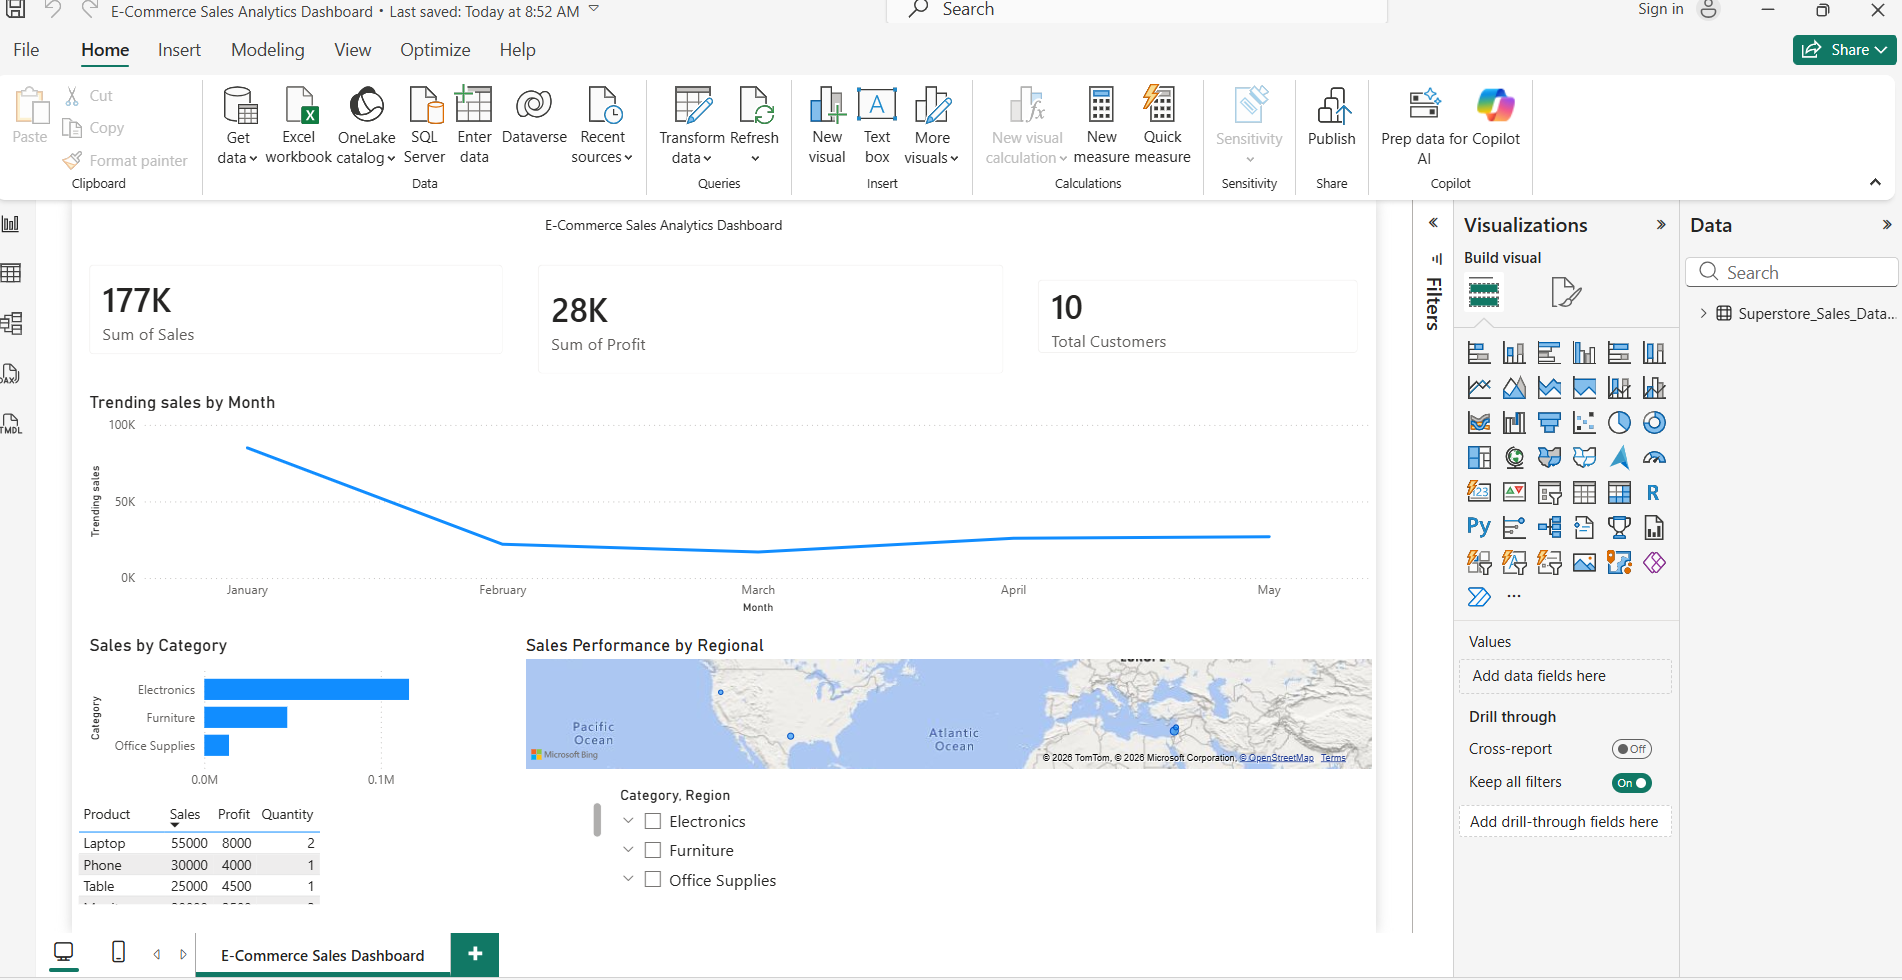

The page's visual inventory and layout, read from the dashboard file:
{"tool":"powerbi","page":{"name":"E-Commerce Sales Dashboard","canvas":[1280,720],"ordinal":0},"visuals":[{"type":"textbox","box":[10,10,1141.7,51.7],"z":0},{"type":"cardVisual","fields":{"Data":["Sum(Superstore_Sales_Dataset.Sales)"]},"box":[0,46.2,440.2,122.1],"z":1000},{"type":"cardVisual","fields":{"Data":["Sum(Superstore_Sales_Dataset.Profit)"]},"box":[440,46.7,491.7,141.7],"z":2000},{"type":"cardVisual","fields":{"Data":["Count(Superstore_Sales_Dataset.Customer)"]},"box":[931.7,61.7,348.3,106.7],"z":3000},{"type":"lineChart","fields":{"Y":["Sum(Superstore_Sales_Dataset.Sales)"],"Category":["Superstore_Sales_Dataset.Order Date.Variation.Date Hierarchy.Month"]},"box":[11.7,188.3,1268.3,223.3],"z":4000},{"type":"clusteredBarChart","fields":{"Category":["Superstore_Sales_Dataset.Category"],"Y":["Sum(Superstore_Sales_Dataset.Sales)"]},"box":[11.7,426.7,396.7,160],"z":5000},{"type":"map","fields":{"Category":["Superstore_Sales_Dataset.Region"],"Size":["Sum(Superstore_Sales_Dataset.Sales)"]},"box":[440,426.7,840,136.7],"z":6000},{"type":"tableEx","fields":{"Values":["Superstore_Sales_Dataset.Product","Superstore_Sales_Dataset.Sales","Superstore_Sales_Dataset.Profit","Superstore_Sales_Dataset.Quantity"]},"box":[0,586.3,525.2,109.9],"z":7000},{"type":"slicer","fields":{"Values":["Superstore_Sales_Dataset.Category","Superstore_Sales_Dataset.Region"]},"box":[525,570,755,150],"z":8001}]}

Visuals, with their boxes on the page's 1280x720 design canvas (x1, y1, x2, y2). These are canvas units, not pixel positions in the 1902x980 screenshot, which may show the page scaled, cropped or inside an application window:
textbox: 10, 10, 1152, 62
cardVisual - Sum(Superstore_Sales_Dataset.Sales): 0, 46, 440, 168
cardVisual - Sum(Superstore_Sales_Dataset.Profit): 440, 47, 932, 188
cardVisual - Count(Superstore_Sales_Dataset.Customer): 932, 62, 1280, 168
lineChart - Sum(Superstore_Sales_Dataset.Sales) x Superstore_Sales_Dataset.Order Date.Variation.Date Hierarchy.Month: 12, 188, 1280, 412
clusteredBarChart - Superstore_Sales_Dataset.Category x Sum(Superstore_Sales_Dataset.Sales): 12, 427, 408, 587
map - Superstore_Sales_Dataset.Region x Sum(Superstore_Sales_Dataset.Sales): 440, 427, 1280, 563
tableEx - Superstore_Sales_Dataset.Product x Superstore_Sales_Dataset.Sales: 0, 586, 525, 696
slicer - Superstore_Sales_Dataset.Category x Superstore_Sales_Dataset.Region: 525, 570, 1280, 720
